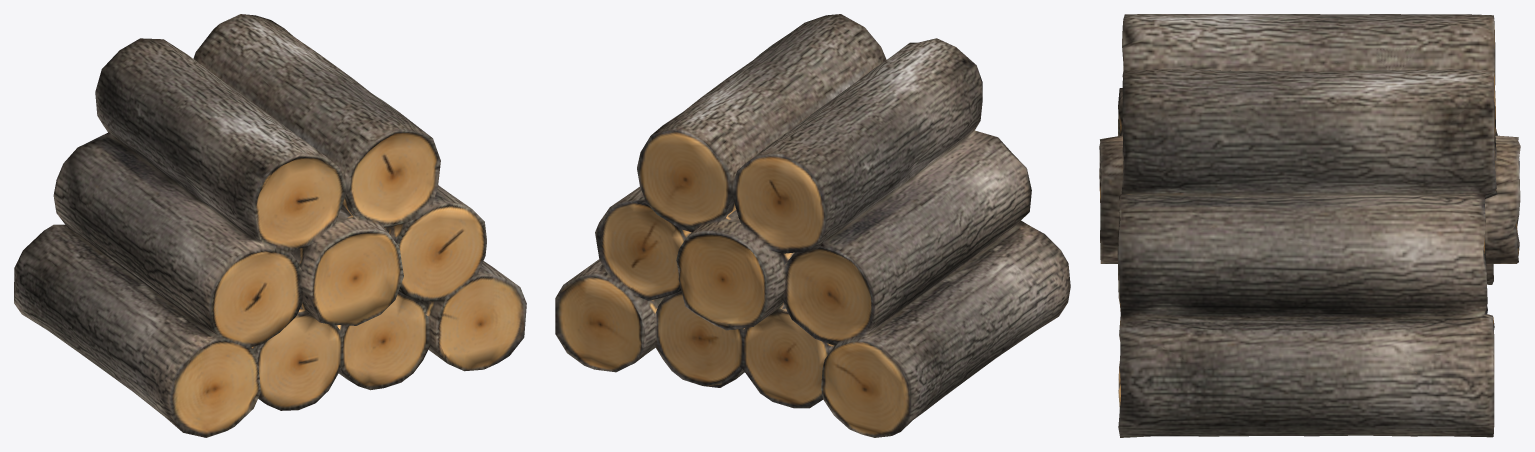
File: logs.glb
The picture shows the model from 3 angles, left to right: view 1: azimuth 30°, elevation 25°; view 2: azimuth 150°, elevation 25°; view 3: azimuth 270°, elevation 25°; orthographic projection. The views are drawn at different scales.
Visible parts, largest first — view 1: model; view 2: model; view 3: model.
Part boxes in pixels (x1,y1,x2,y2): model: [14, 14, 526, 437]; model: [555, 14, 1070, 437]; model: [1099, 14, 1520, 437].
Size of the model in its own units: 1.91 by 1.33 by 1.65.
1 material, 1 textured.
